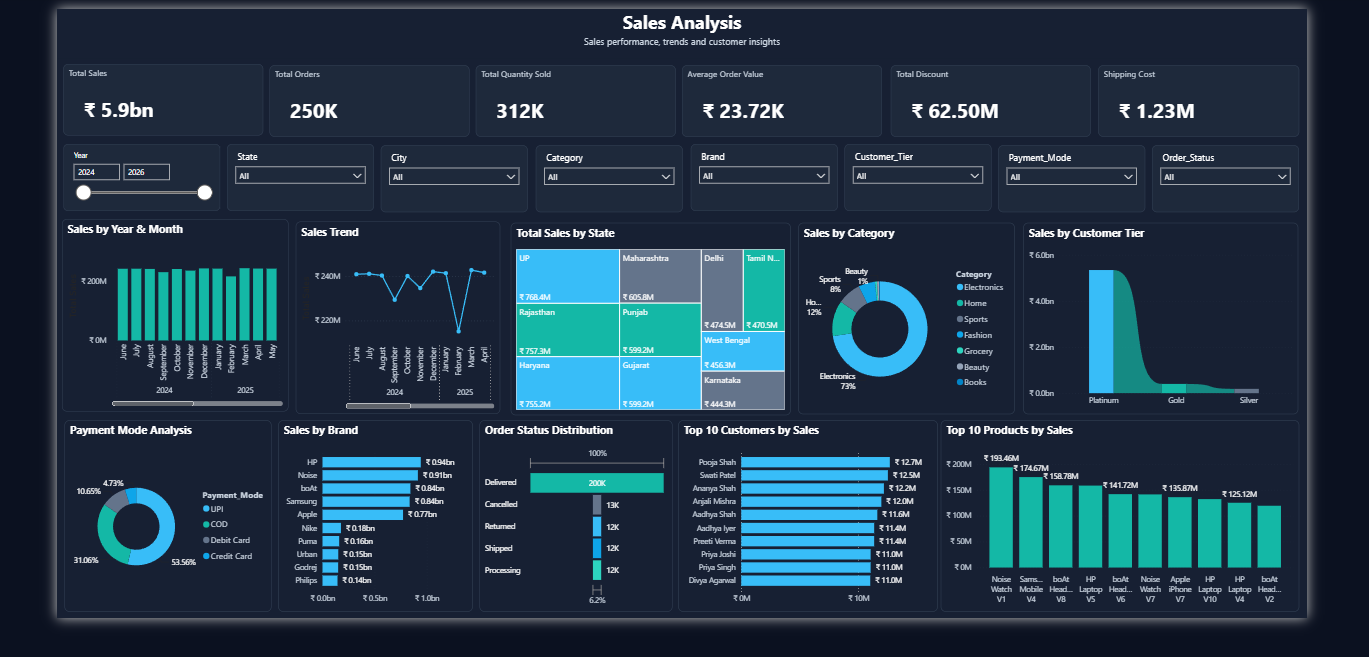

The dashboard page shown, as its layout file describes it:
{"tool":"powerbi","page":{"name":"Sales Analysis","canvas":[2000,975],"ordinal":2},"visuals":[{"type":"textbox","title":"Sales Analysis","box":[0,0,2000,79.2],"z":0},{"type":"cardVisual","title":"Total Sales","fields":{"Data":["_Measures.Total Sales"]},"box":[10,88,320,114.4],"z":1000},{"type":"cardVisual","title":"Total Orders","fields":{"Data":["_Measures.Total Orders"]},"box":[340.8,89.6,320,114],"z":2000},{"type":"cardVisual","title":"Total Quantity Sold","fields":{"Data":["_Measures.Total Quantity Sold"]},"box":[670,90.8,320,114],"z":3000},{"type":"cardVisual","title":"Average Order Value","fields":{"Data":["_Measures.Average Order Value"]},"box":[1000,90,320,114],"z":4000},{"type":"cardVisual","title":"Total Discount","fields":{"Data":["_Measures.Total Discount"]},"box":[1333,91,320,114],"z":5000},{"type":"cardVisual","title":"Shipping Cost","fields":{"Data":["_Measures.Total Shipping Cost"]},"box":[1665,90,322,114],"z":6000},{"type":"clusteredColumnChart","title":"Sales by Year & Month","fields":{"Category":["DateTable.Year","DateTable.Month"],"Y":["_Measures.Total Sales"]},"box":[7.5,337,362.5,308.3],"z":7000},{"type":"lineChart","title":"Sales Trend","fields":{"Category":["DateTable.Year","DateTable.Month"],"Y":["_Measures.Total Sales"]},"box":[382,341,327.1,308.3],"z":8000},{"type":"treemap","fields":{"Group":["sales.State"],"Values":["_Measures.Total Sales"]},"box":[726,341,447.9,308.3],"z":9000},{"type":"donutChart","title":"Sales by Category","fields":{"Category":["products.Category"],"Y":["_Measures.Total Sales"]},"box":[1186.7,342.2,346.7,306.7],"z":10000},{"type":"clusteredBarChart","title":"Sales by Brand","fields":{"Category":["products.Brand"],"Y":["_Measures.Total Sales"]},"box":[353.3,657.8,311.1,306.7],"z":11000},{"type":"ribbonChart","title":"Sales by Customer Tier","fields":{"Category":["customers.Customer_Tier"],"Y":["_Measures.Total Sales"]},"box":[1546.7,342.2,440,306.7],"z":12000},{"type":"donutChart","title":"Payment Mode Analysis","fields":{"Category":["sales.Payment_Mode"],"Y":["_Measures.Total Sales"]},"box":[11.1,657.8,331.1,306.7],"z":13000},{"type":"funnel","title":"Order Status Distribution","fields":{"Category":["sales.Order_Status"],"Y":["_Measures.Total Orders"]},"box":[675.6,657.8,308.9,306.7],"z":14000},{"type":"clusteredBarChart","title":"Top 10 Customers by Sales","fields":{"Category":["customers.Customer_Name"],"Y":["_Measures.Total Sales"]},"box":[993.3,657.8,415.6,306.7],"z":15000},{"type":"clusteredColumnChart","title":"Top 10 Products by Sales","fields":{"Category":["products.Product_Name"],"Y":["_Measures.Total Sales"]},"box":[1413.3,657.8,573.3,306.7],"z":16000},{"type":"slicer","fields":{"Values":["DateTable.Year"]},"box":[10,215,251,107.5],"z":17000},{"type":"slicer","fields":{"Values":["sales.State"]},"box":[272.5,216.5,235,107],"z":18000},{"type":"slicer","fields":{"Values":["sales.City"]},"box":[518,217.5,235,107],"z":19000},{"type":"slicer","fields":{"Values":["products.Category"]},"box":[766,217.5,235,107],"z":20000},{"type":"slicer","fields":{"Values":["products.Brand"]},"box":[1014,215.5,235,107],"z":21000},{"type":"slicer","fields":{"Values":["customers.Customer_Tier"]},"box":[1260.5,215.5,235,107],"z":22000},{"type":"slicer","fields":{"Values":["sales.Payment_Mode"]},"box":[1506.5,217.5,235,107],"z":23000},{"type":"slicer","fields":{"Values":["sales.Order_Status"]},"box":[1751.5,217.5,235,107],"z":24000}]}

Visuals, with their boxes in screenshot pixels (x1, y1, x2, y2), scaled from the page's 2000x975 canvas onto the 1369x657 screenshot:
"Sales Analysis" textbox: locate(0, 0, 1368, 53)
"Total Sales" cardVisual: locate(7, 59, 226, 136)
"Total Orders" cardVisual: locate(233, 60, 452, 137)
"Total Quantity Sold" cardVisual: locate(459, 61, 678, 138)
"Average Order Value" cardVisual: locate(684, 61, 904, 137)
"Total Discount" cardVisual: locate(912, 61, 1131, 138)
"Shipping Cost" cardVisual: locate(1140, 61, 1360, 137)
"Sales by Year & Month" clusteredColumnChart: locate(5, 227, 253, 435)
"Sales Trend" lineChart: locate(261, 230, 485, 438)
treemap - sales.State x _Measures.Total Sales: locate(497, 230, 804, 438)
"Sales by Category" donutChart: locate(812, 231, 1050, 437)
"Sales by Brand" clusteredBarChart: locate(242, 443, 455, 650)
"Sales by Customer Tier" ribbonChart: locate(1059, 231, 1360, 437)
"Payment Mode Analysis" donutChart: locate(8, 443, 234, 650)
"Order Status Distribution" funnel: locate(462, 443, 674, 650)
"Top 10 Customers by Sales" clusteredBarChart: locate(680, 443, 964, 650)
"Top 10 Products by Sales" clusteredColumnChart: locate(967, 443, 1360, 650)
slicer - DateTable.Year: locate(7, 145, 179, 217)
slicer - sales.State: locate(187, 146, 347, 218)
slicer - sales.City: locate(355, 147, 515, 219)
slicer - products.Category: locate(524, 147, 685, 219)
slicer - products.Brand: locate(694, 145, 855, 217)
slicer - customers.Customer_Tier: locate(863, 145, 1024, 217)
slicer - sales.Payment_Mode: locate(1031, 147, 1192, 219)
slicer - sales.Order_Status: locate(1199, 147, 1360, 219)
